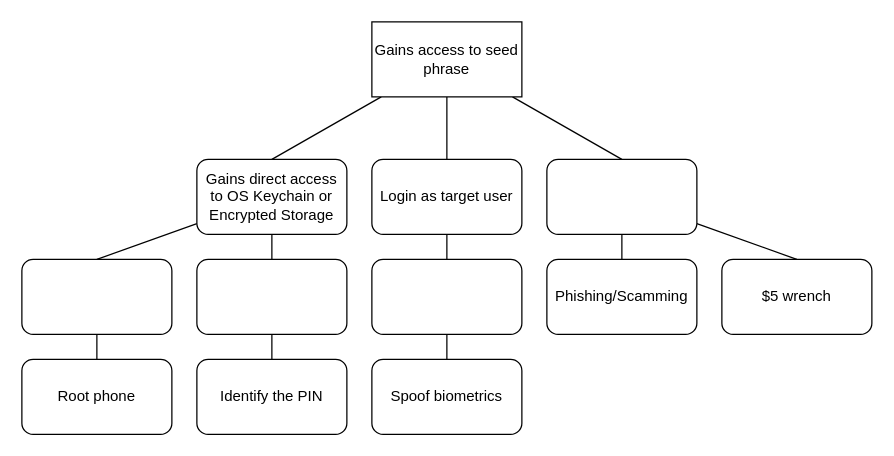
Some shapes in this 894 by 456 pixel diagram are drawn without their labels. The box of each missing label's shape, as (x1, y1, x2, y2) in pixels:
Brute force login: (196, 258, 347, 334)
Compromise mobile OS: (21, 258, 172, 334)
Gains direct access to seed phrase: (546, 158, 697, 234)
Steal user credentials: (371, 258, 522, 334)
